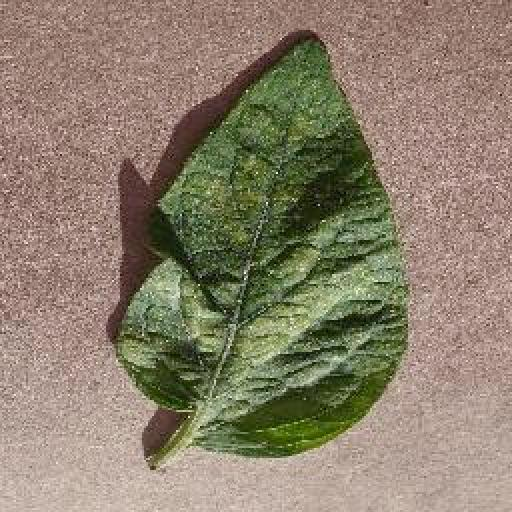disease_tomato: (119, 26, 407, 458)
